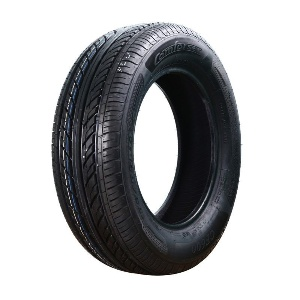train: (51, 24, 241, 273)
